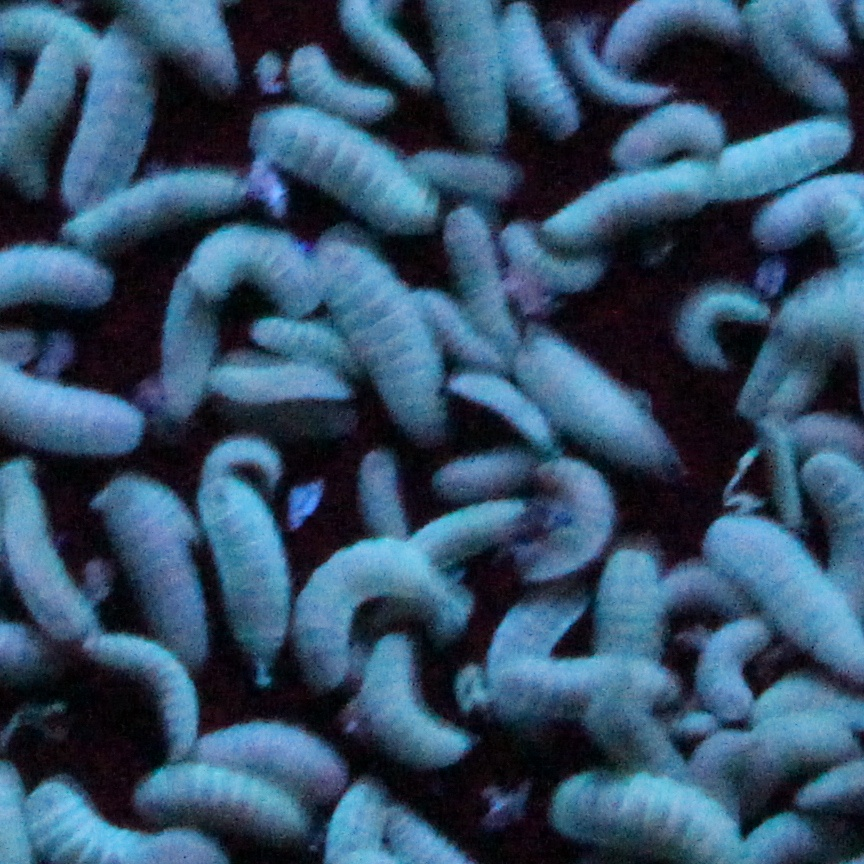larve: (350, 225, 435, 436), (537, 339, 683, 457), (73, 160, 258, 250), (206, 458, 276, 691), (261, 106, 409, 214), (312, 539, 426, 678), (432, 6, 528, 158), (358, 646, 483, 760), (62, 39, 151, 196), (551, 164, 705, 250), (665, 254, 769, 377), (512, 464, 615, 585), (138, 767, 294, 842), (90, 632, 190, 746), (755, 0, 855, 107), (444, 207, 519, 332), (595, 534, 663, 661), (702, 132, 839, 188), (19, 782, 115, 860), (582, 696, 683, 764), (506, 660, 686, 696), (348, 457, 412, 553), (744, 536, 818, 612), (749, 717, 857, 758), (696, 637, 752, 702)
